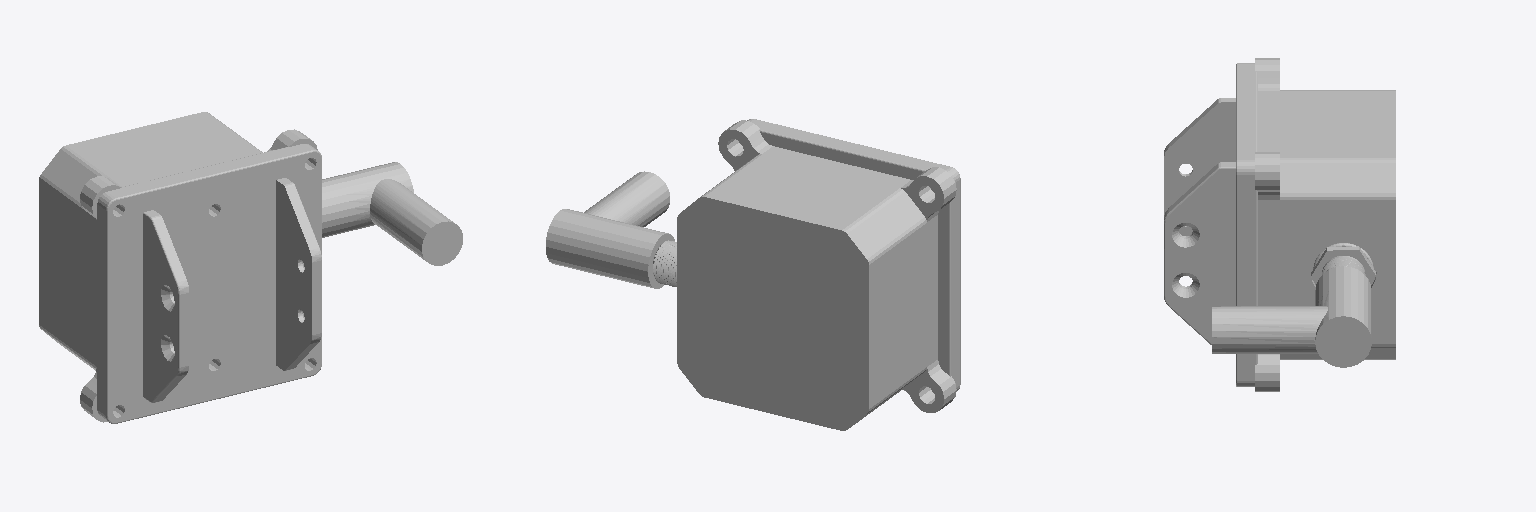
The model's file is imu_link.obj.
3 renders of one model, left to right at view 1: azimuth 30°, elevation 25°; view 2: azimuth 150°, elevation 25°; view 3: azimuth 270°, elevation 25°, orthographic.
Visible parts, largest first — view 1: imu_link; view 2: imu_link; view 3: imu_link.
Part boxes in pixels (left/top/right/bottom): imu_link: left=39, top=112, right=462, bottom=423; imu_link: left=546, top=119, right=960, bottom=430; imu_link: left=1164, top=58, right=1395, bottom=391.
Bounding box in the file's own units: 0.0736 × 0.0472 × 0.042.